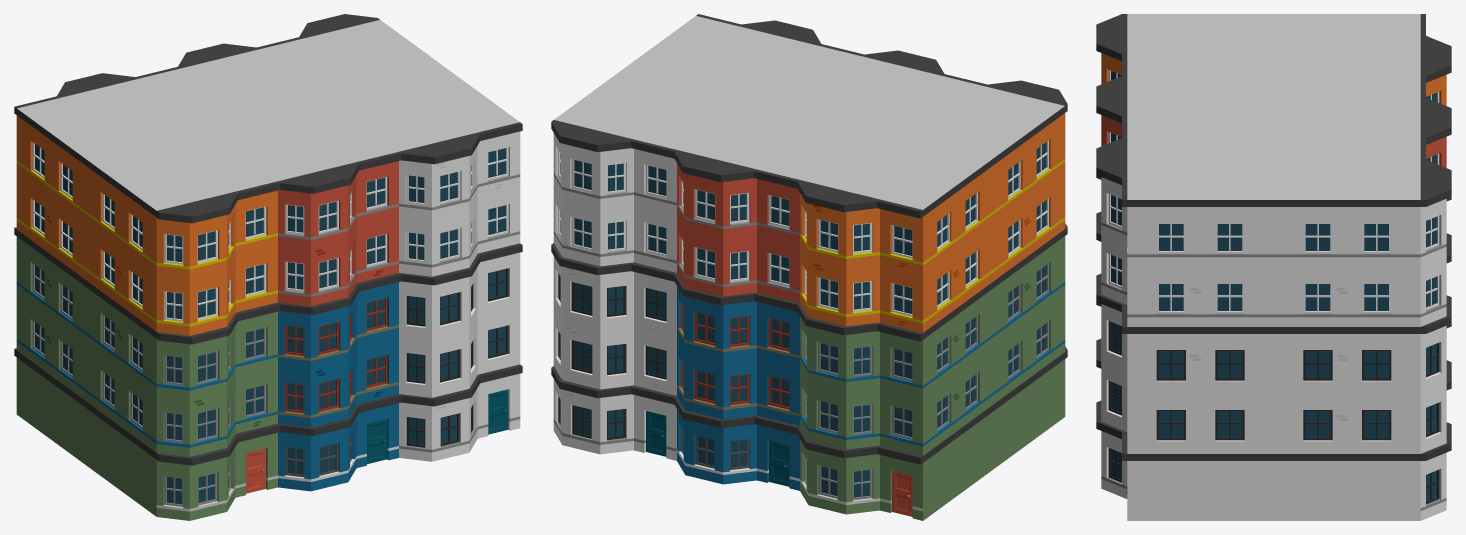
3 views of the same model, side by side, from view 1: azimuth 30°, elevation 25°; view 2: azimuth 150°, elevation 25°; view 3: azimuth 270°, elevation 25° (orthographic). The views are drawn at different scales.
Parts seen in each view (by area): view 1: Building; view 2: Building; view 3: Building.
Boxes of the visible parts, box(x1,y1,x2,y2) form: Building: box(14, 14, 522, 520); Building: box(551, 14, 1067, 520); Building: box(1096, 14, 1451, 520).
Size of what is drawn, in the model's own units: 19.46 by 15.65 by 15.7.
